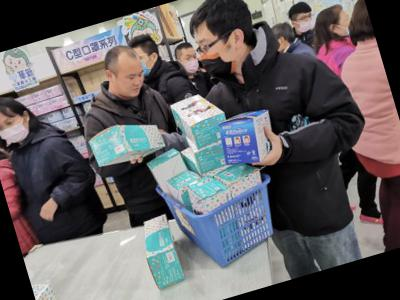with_mask: (194, 31, 242, 88), (180, 49, 203, 78), (294, 10, 318, 33)
without_mask: (114, 68, 151, 102)
